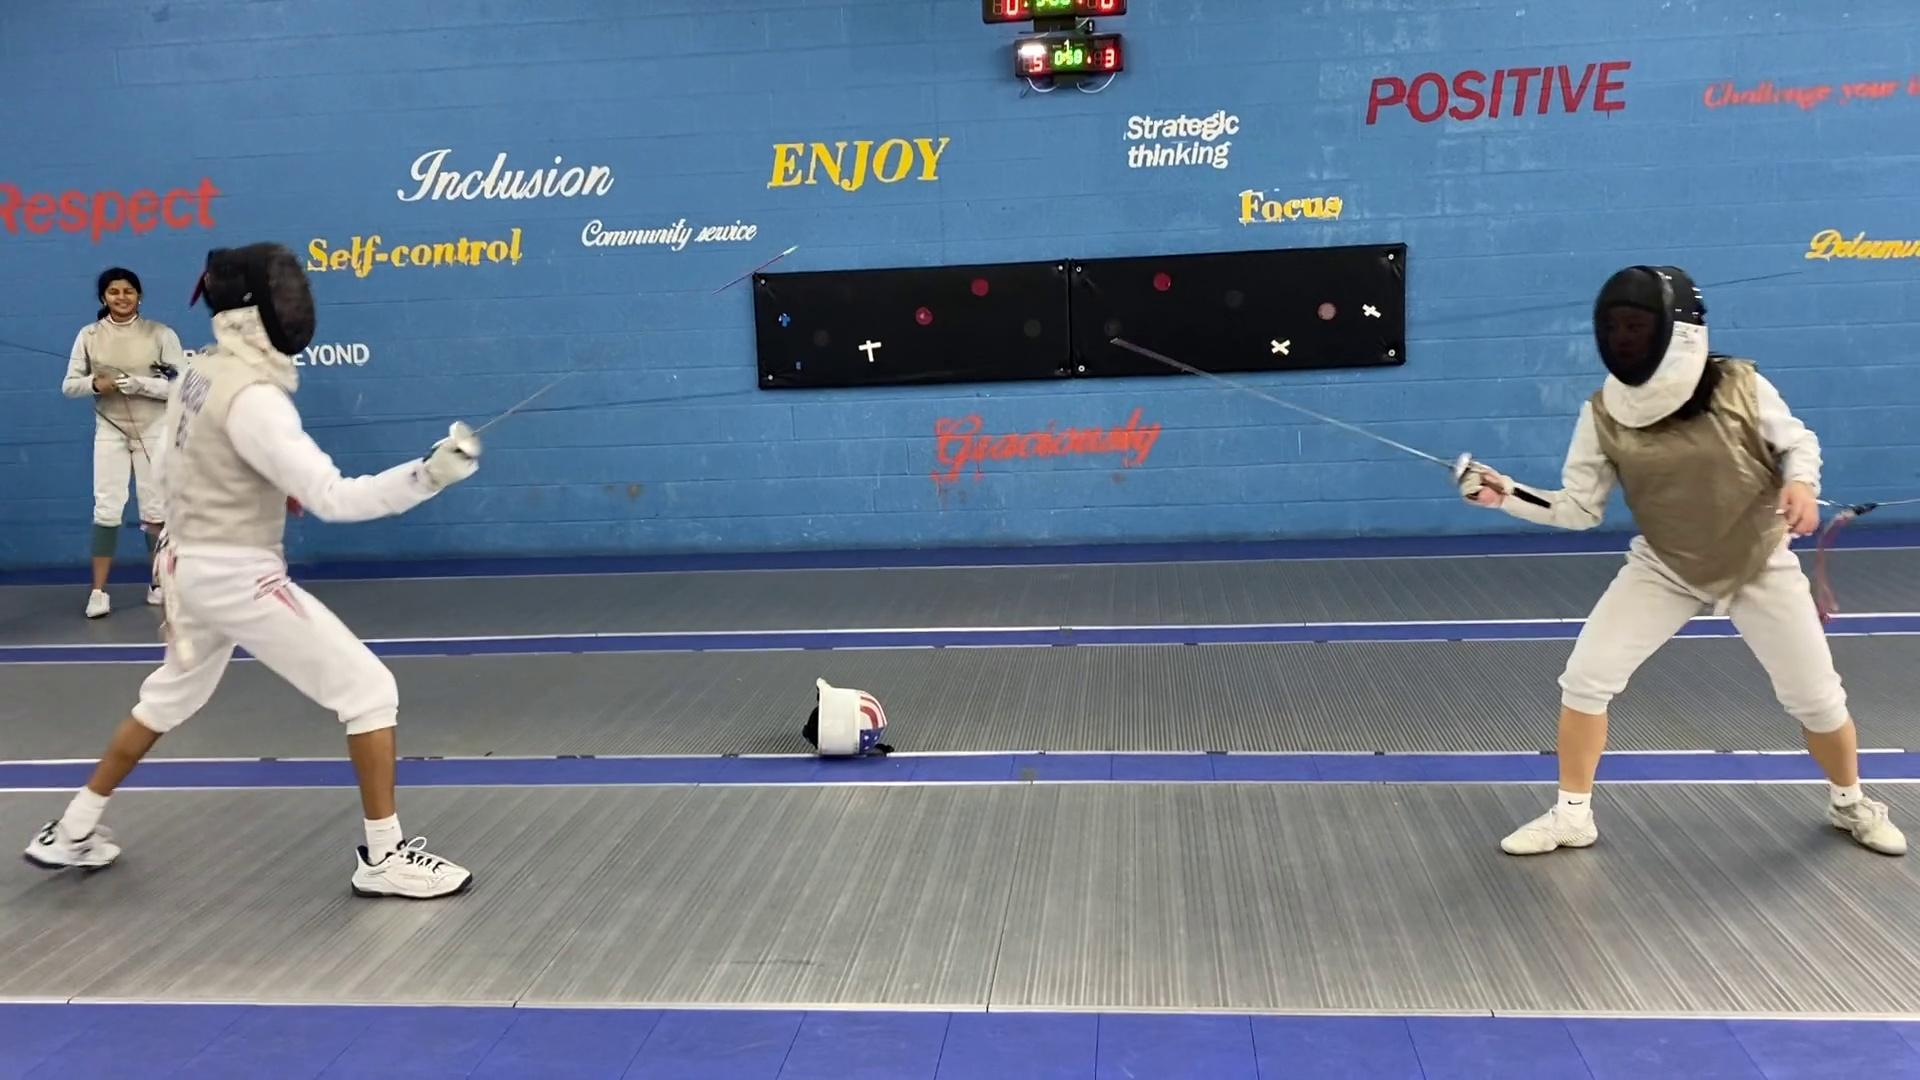blade-guard: (446, 418, 487, 462), (1445, 450, 1477, 491)
blade-tip: (709, 237, 804, 295), (1110, 335, 1204, 378)
fencing-blade: (436, 235, 807, 467), (1106, 334, 1513, 508)
